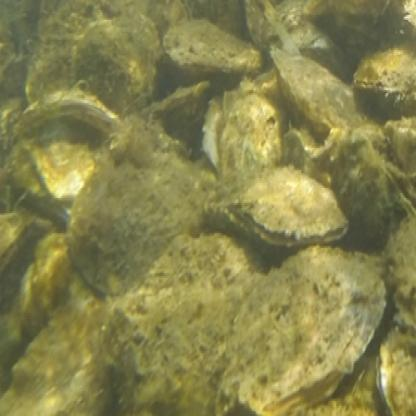Oyster- Indeterminate: (233, 165, 350, 246), (377, 332, 416, 416), (0, 203, 38, 270), (381, 161, 416, 216)
Oyster-Closed: (220, 245, 386, 416), (103, 237, 252, 416), (70, 115, 217, 295), (0, 284, 112, 416), (309, 125, 390, 248), (272, 52, 369, 136), (73, 11, 156, 109), (216, 94, 284, 175), (165, 19, 257, 77), (26, 132, 100, 201), (20, 89, 114, 141), (355, 42, 416, 114), (143, 83, 207, 151), (392, 214, 416, 333)
